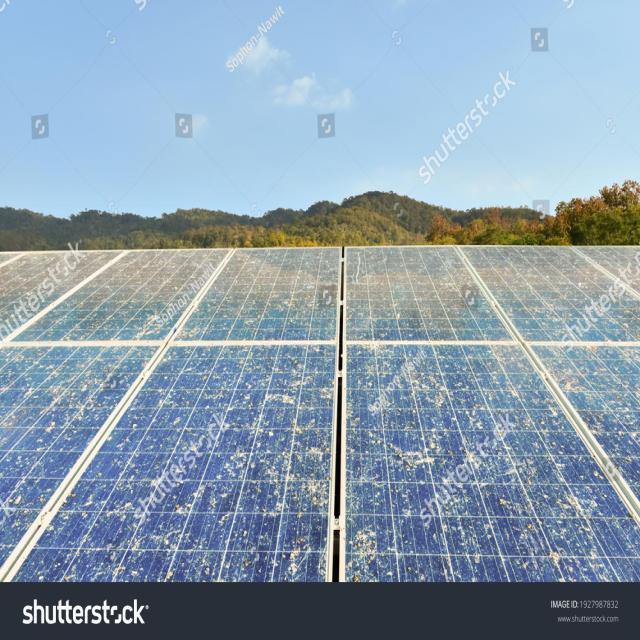soiled: (1, 246, 338, 584), (347, 247, 640, 588)
